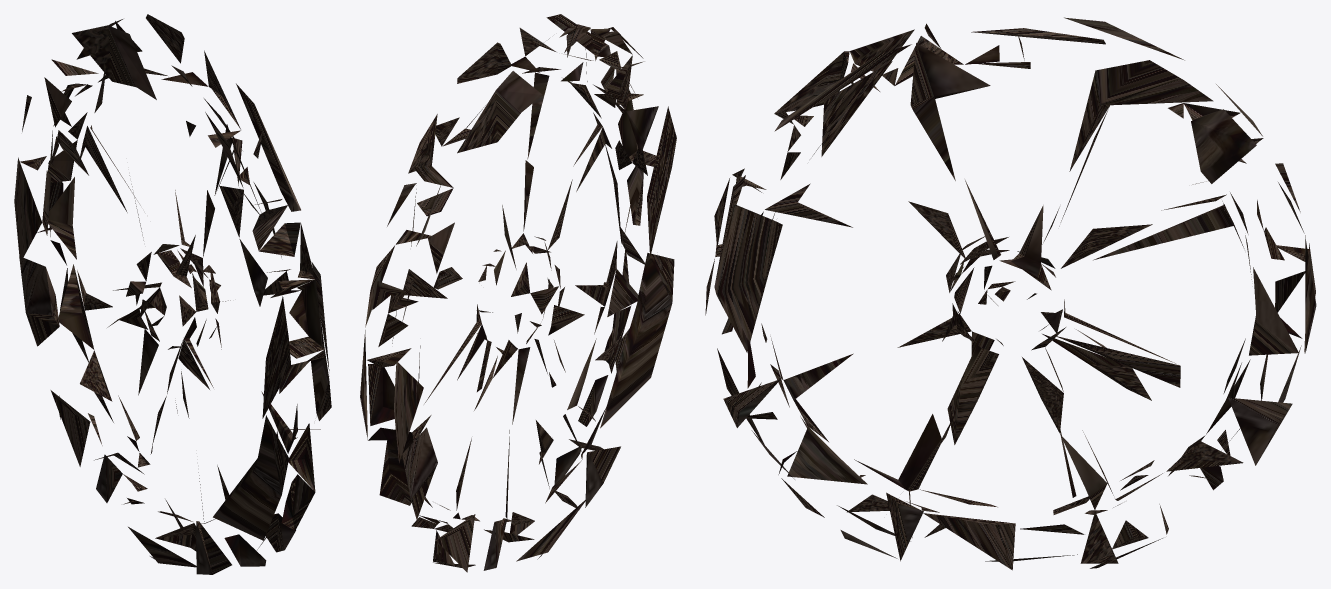
File: prp_waterwheel_a_LOD2.glb
3 renders of one model, left to right at view 1: azimuth 30°, elevation 25°; view 2: azimuth 150°, elevation 25°; view 3: azimuth 270°, elevation 25°, orthographic. The views are drawn at different scales.
Parts seen in each view (by area): view 1: geometry_0; view 2: geometry_0; view 3: geometry_0.
Boxes of the visible parts, bbox=[...] form: geometry_0: bbox=[14, 14, 331, 574]; geometry_0: bbox=[360, 14, 676, 572]; geometry_0: bbox=[705, 17, 1316, 570].
Bounding box in the file's own units: 0.6 × 3.99 × 4.
Materials: 1 (1 with a texture image).
